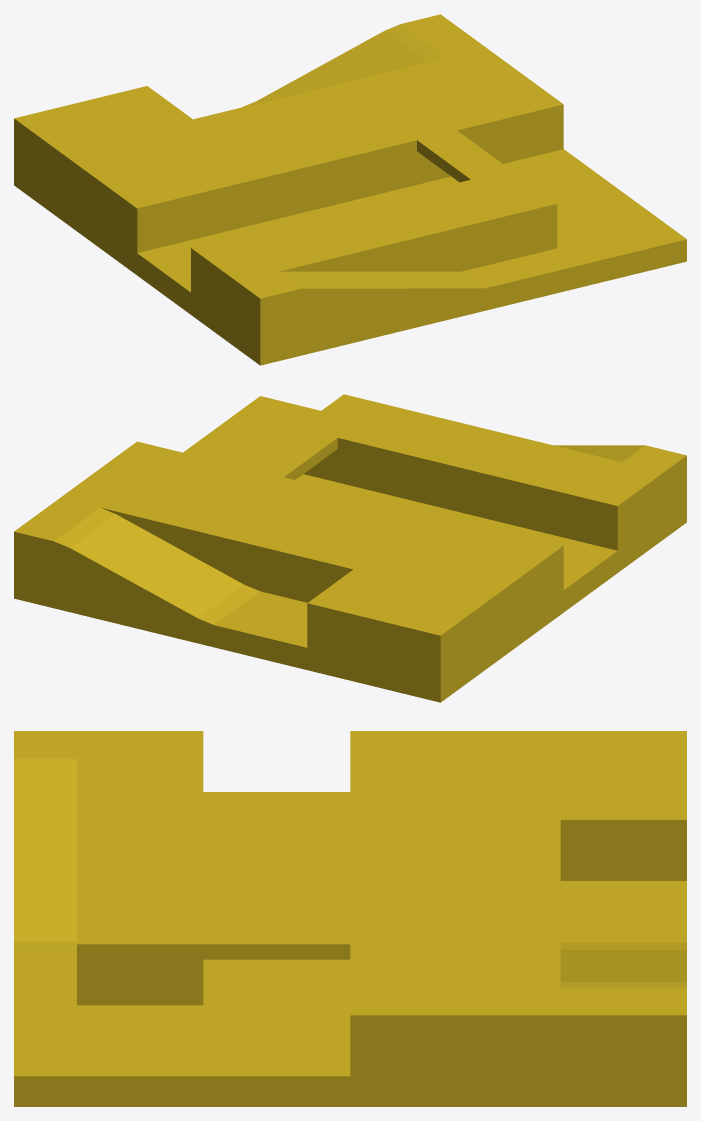
File: demo-level.glb
3 renders of one model, top to bottom at view 1: azimuth 30°, elevation 25°; view 2: azimuth 150°, elevation 25°; view 3: azimuth 270°, elevation 25°, orthographic. The views are drawn at different scales.
Parts seen in each view (by area): view 1: Cube; view 2: Cube; view 3: Cube.
Part boxes in pixels (bbox=[...]): Cube: bbox=[14, 14, 686, 365]; Cube: bbox=[14, 394, 686, 702]; Cube: bbox=[14, 731, 686, 1106].
Bounding box in the file's own units: 40 × 6 × 40.
